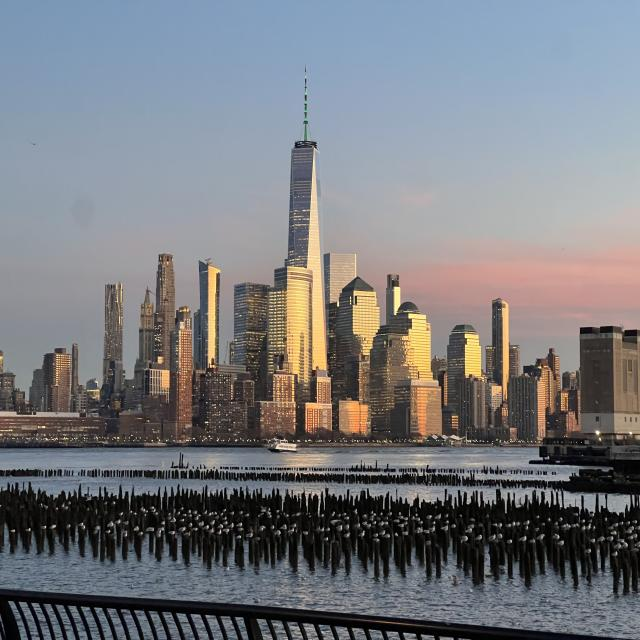WTC: (288, 64, 324, 266)
